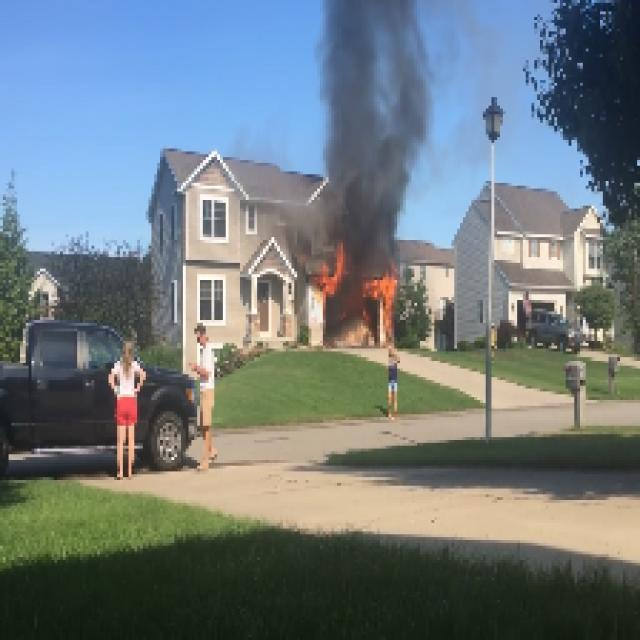Fire: (363, 271, 400, 326), (318, 248, 346, 298)
Smoke: (294, 3, 486, 240)
